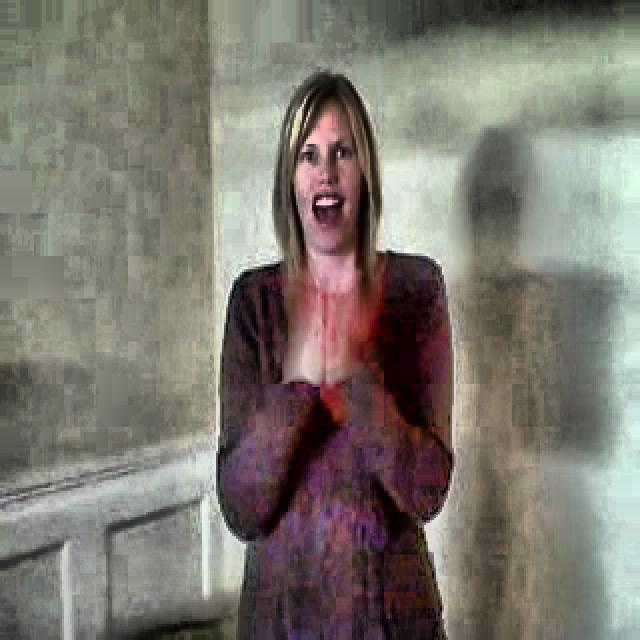F: (197, 63, 465, 624)
